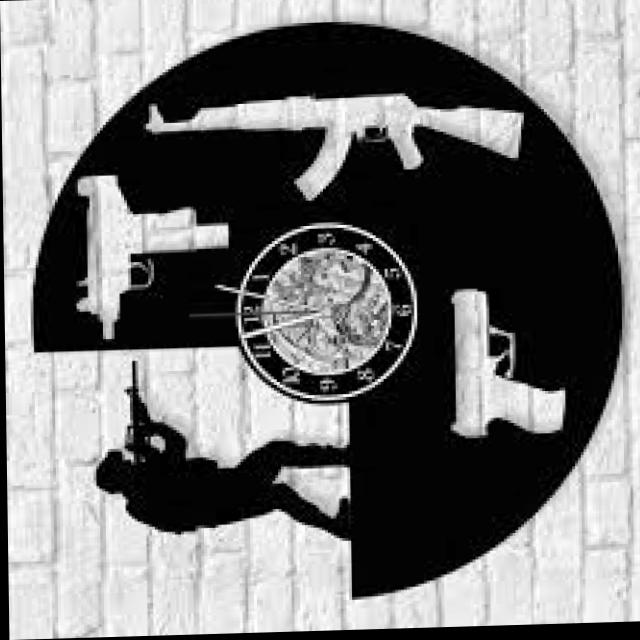handgun: (443, 286, 569, 449)
rifle: (137, 90, 540, 204), (116, 355, 159, 467)
semi: (68, 173, 232, 341)
